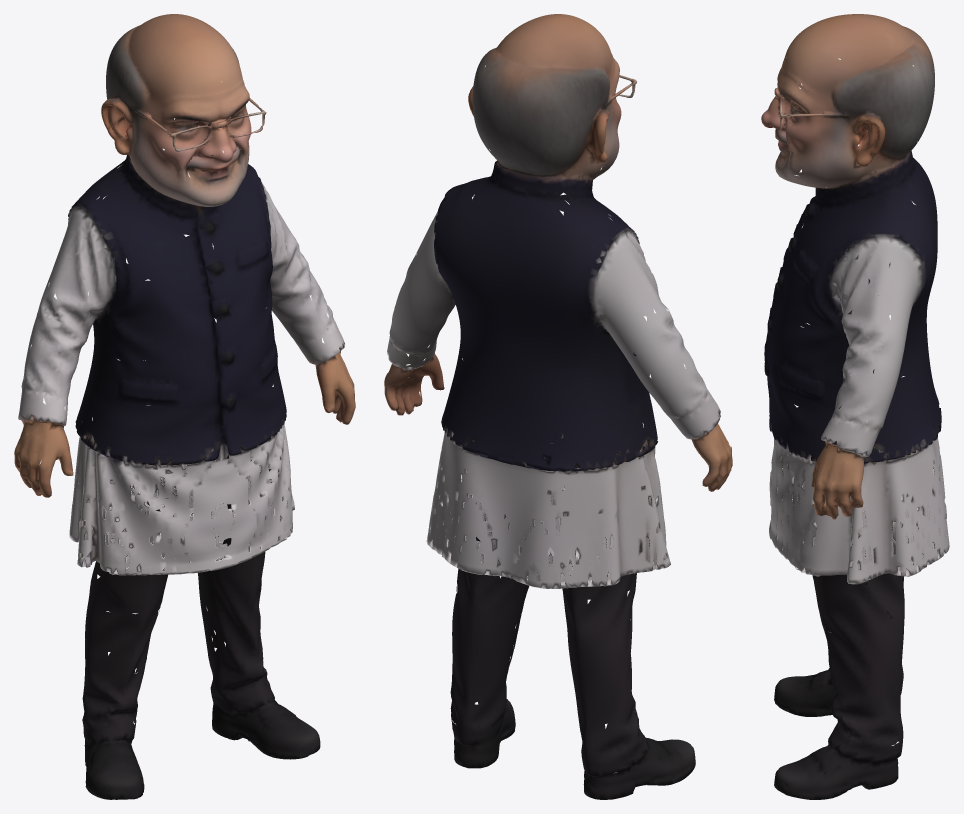
The model's file is shah.glb.
3 views of the same model, side by side, from view 1: azimuth 30°, elevation 25°; view 2: azimuth 150°, elevation 25°; view 3: azimuth 270°, elevation 25° (orthographic). The views are drawn at different scales.
Size of the model in its own units: 0.8589 by 1.82 by 0.4245.
